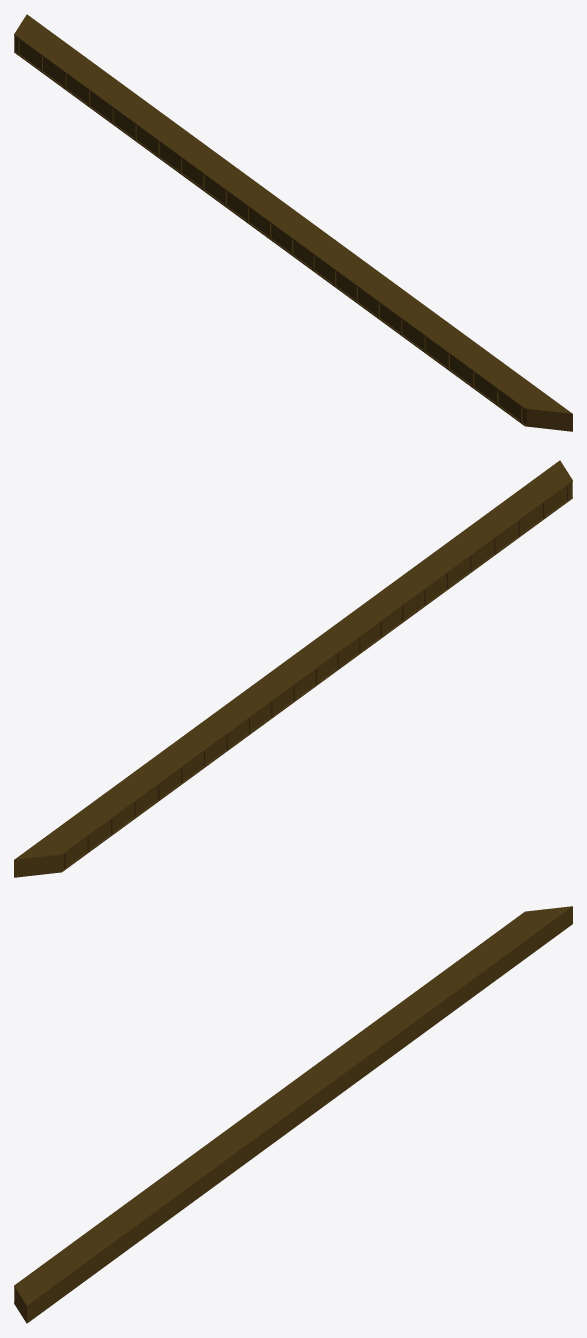
File: Industry_EdgeFrame_low.fbx
3 views of the same model, one above another, from view 1: azimuth 30°, elevation 25°; view 2: azimuth 150°, elevation 25°; view 3: azimuth 330°, elevation 25° (orthographic).
Visible parts, largest first — view 1: Industry_EdgeFrame_low; view 2: Industry_EdgeFrame_low; view 3: Industry_EdgeFrame_low.
Boxes of the visible parts, x1,y1,x2,y2 form: Industry_EdgeFrame_low: [14, 14, 572, 431]; Industry_EdgeFrame_low: [14, 460, 572, 877]; Industry_EdgeFrame_low: [14, 906, 572, 1323].
Size of the model in its own units: 160 by 90 by 4971.
